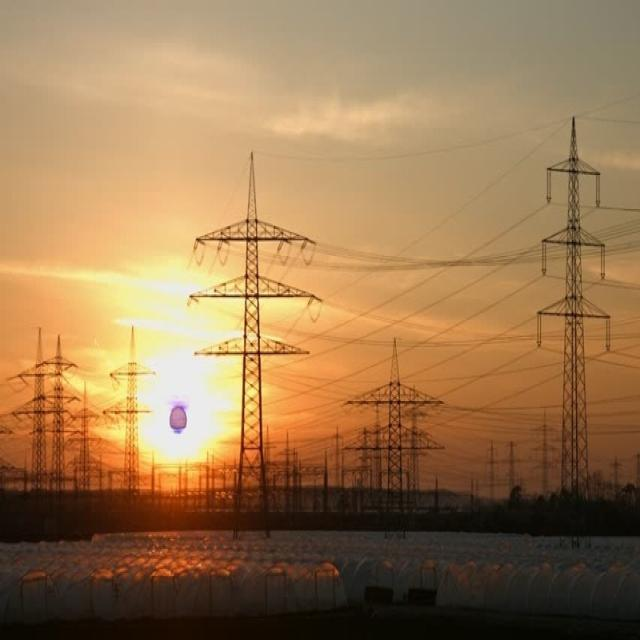non-critical vegetation: (188, 162, 314, 494), (532, 105, 616, 489), (350, 331, 440, 491), (100, 324, 154, 498), (41, 333, 74, 496)
